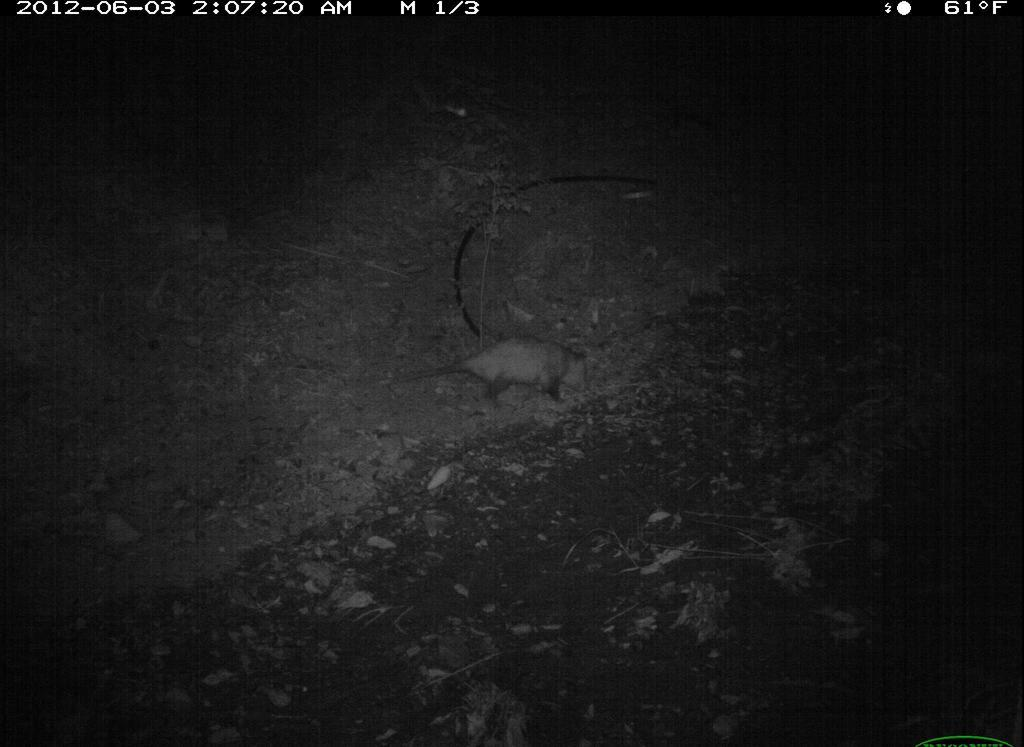opossum: (400, 317, 603, 431)
